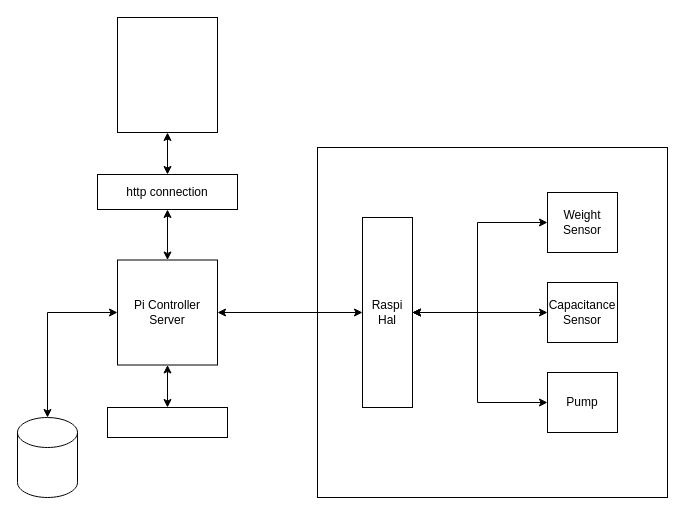
This 685x515 diagram has some shape labels left out. The shapes that lost their labels are listed below. From the top down, each one's centre as x and y in pixels, then its label:
(x=167, y=74): Pi Pico
(x=167, y=422): Password Connection
(x=47, y=457): Data Storage
